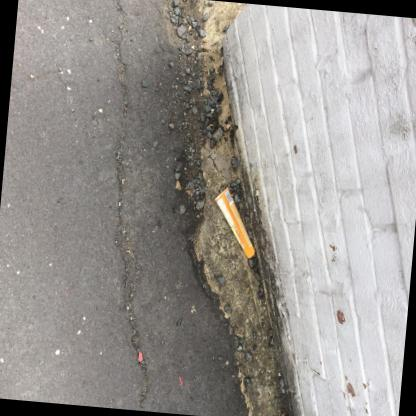Paper: (214, 186, 254, 257)
